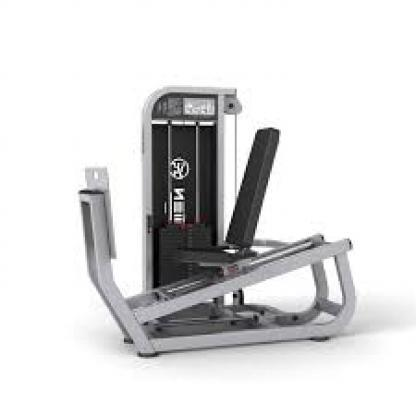leg press: (59, 78, 366, 358)
